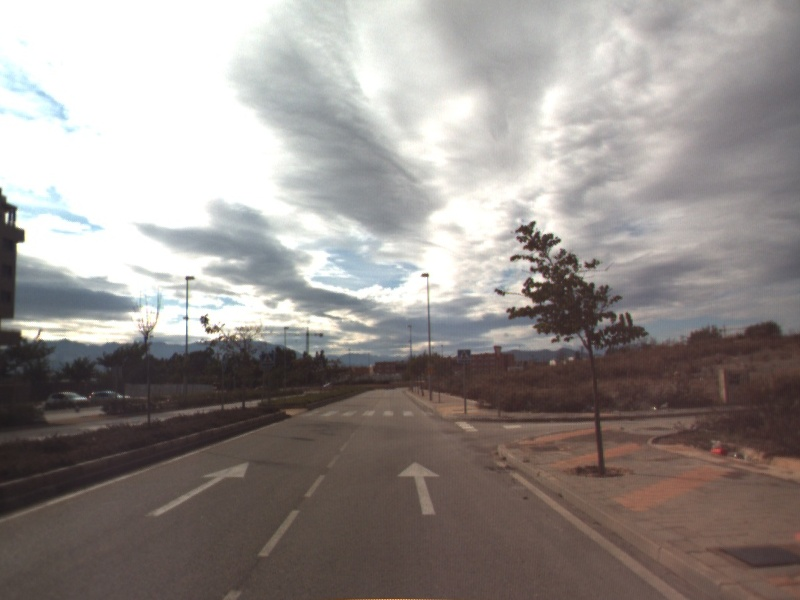STRAIGHT: (143, 460, 251, 519), (395, 459, 442, 517)
